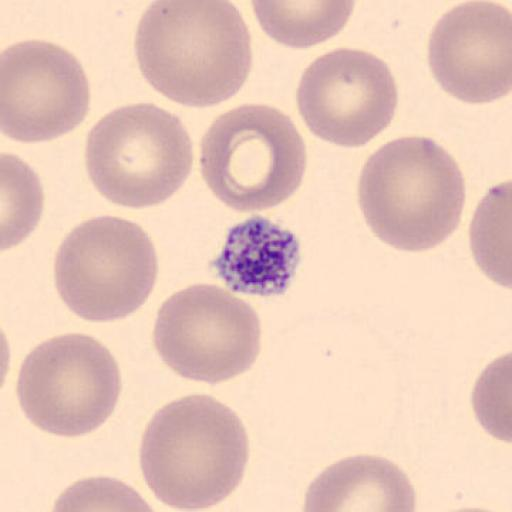Platelet: (210, 213, 305, 298)
RBC: (137, 392, 251, 512), (355, 133, 467, 255), (132, 0, 255, 110), (197, 102, 308, 214), (83, 101, 196, 211), (14, 330, 124, 440), (51, 213, 159, 324), (150, 282, 262, 388), (295, 46, 400, 150), (2, 37, 92, 145), (426, 0, 512, 104), (300, 453, 418, 512), (249, 0, 357, 49), (468, 176, 512, 294), (48, 474, 164, 512), (2, 150, 44, 252), (471, 349, 512, 447), (0, 319, 13, 403), (431, 503, 512, 512)
